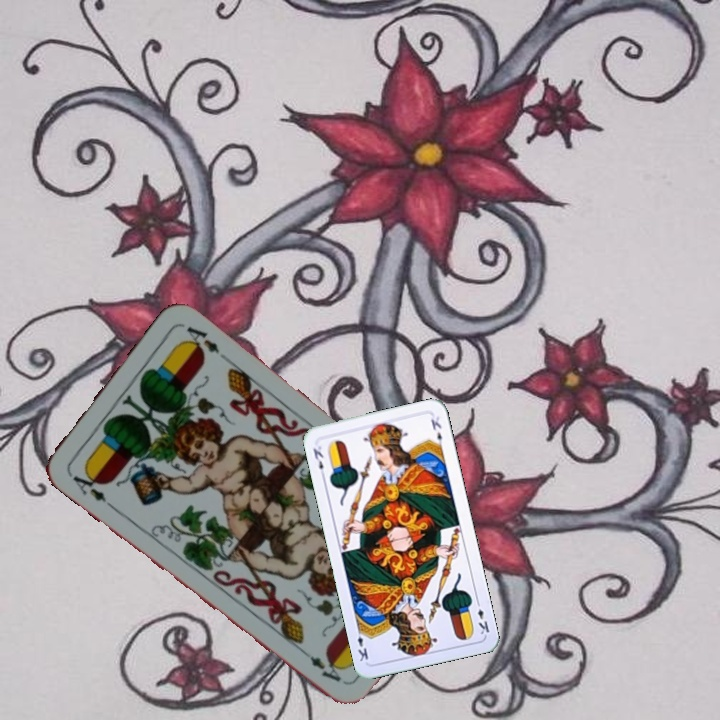EA: (64, 466, 115, 510)
EK: (472, 596, 492, 637), (309, 442, 328, 480)
